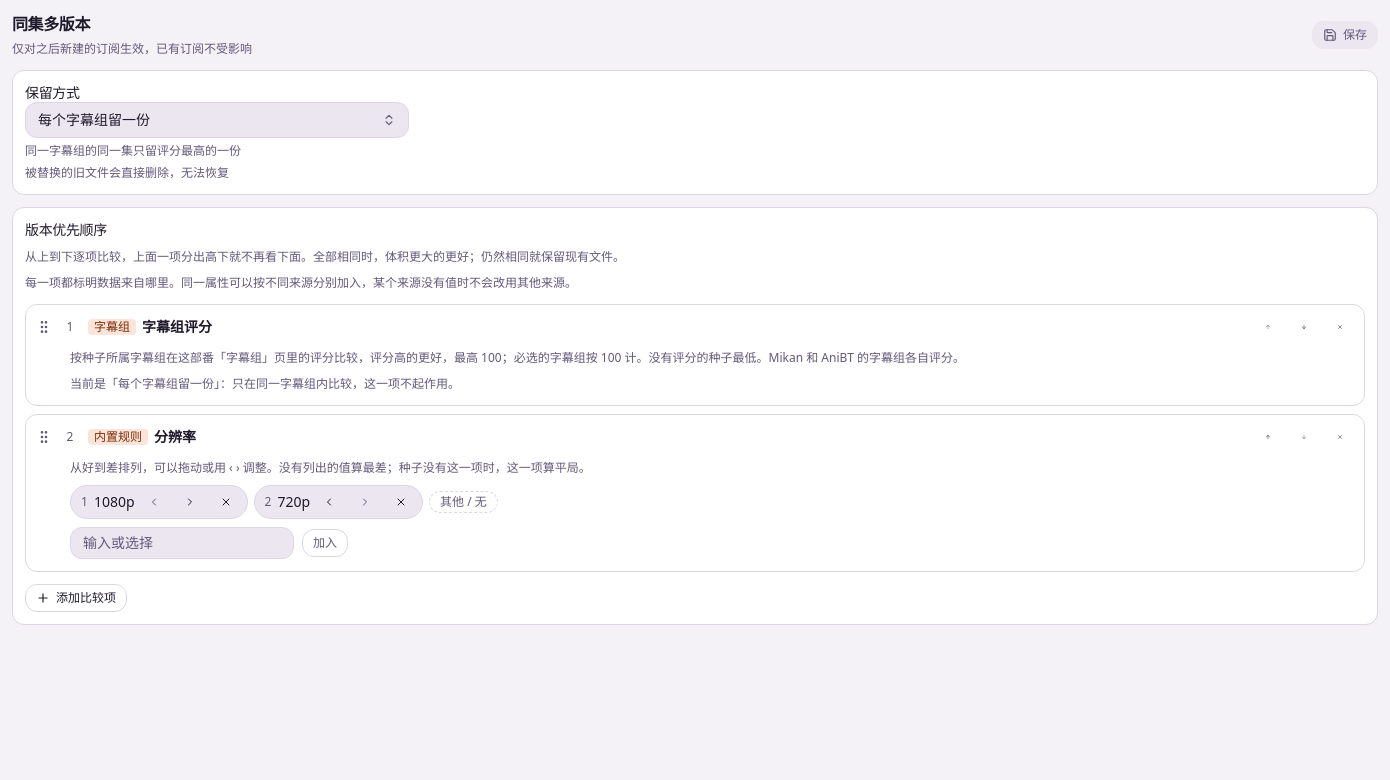
Test case: SettingsReplacement › saves an edit with the loaded version as the CAS expectation and reports dirty state
The width and height of the screenshot is (1390, 780).
What coordinates should you click on to do the following:
click the button named "上移 内置规则 · 分辨率"
I would click on:
 (1268, 436)
Its box is [1254,422,1282,450].
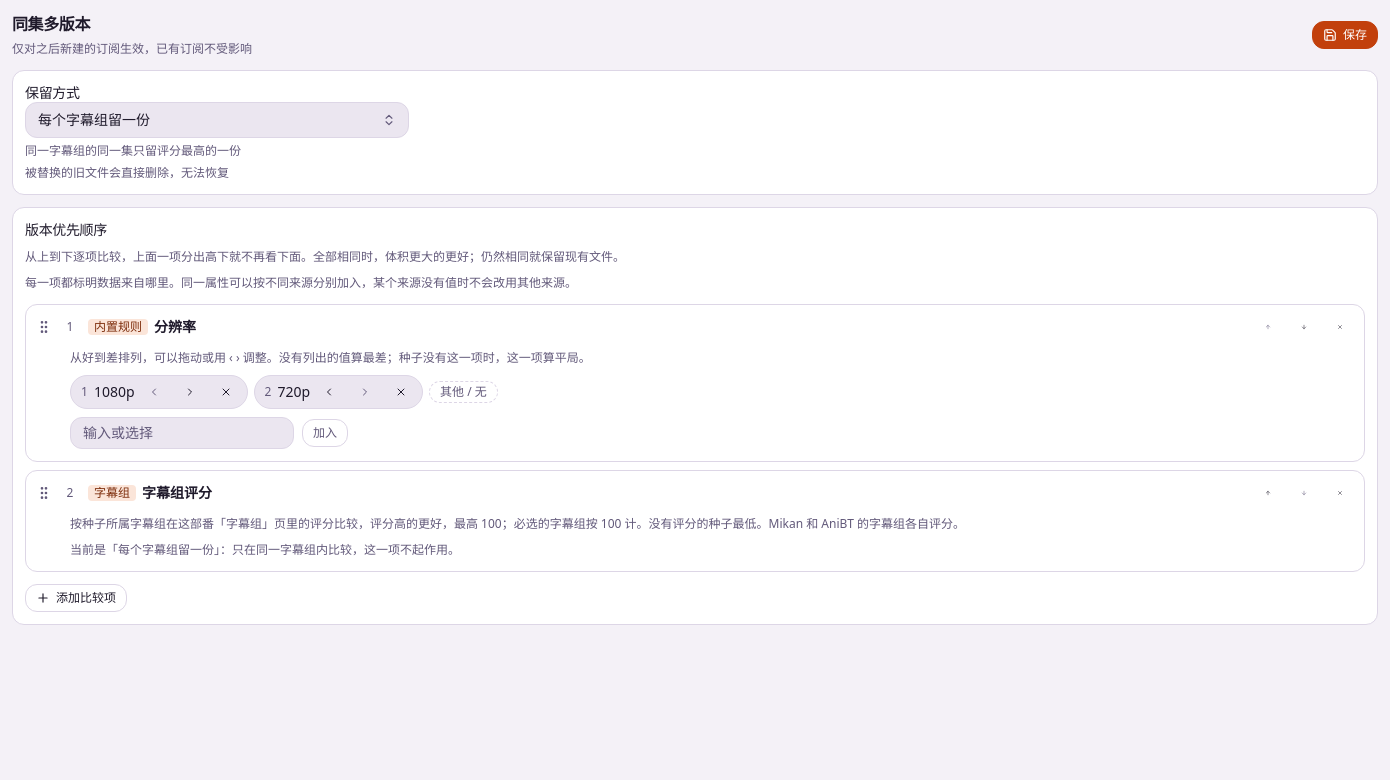
What coordinates should you click on to do the following:
click the button with aria-label "保存同集多版本设置"
I would click on:
 (1345, 35)
Its box is [1312,21,1378,49].
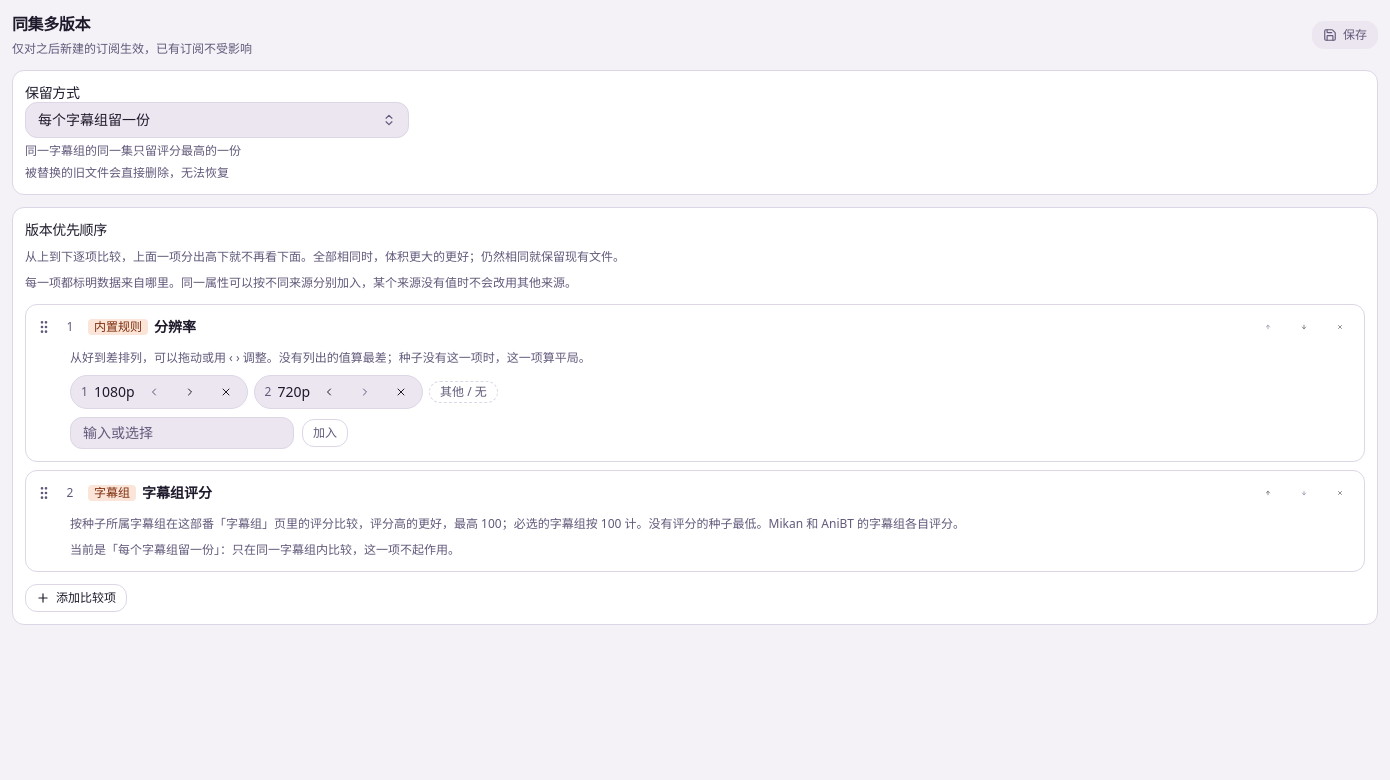
Check: the button with aria-label "保存同集多版本设置" is disabled, box [1312,21,1378,49]
